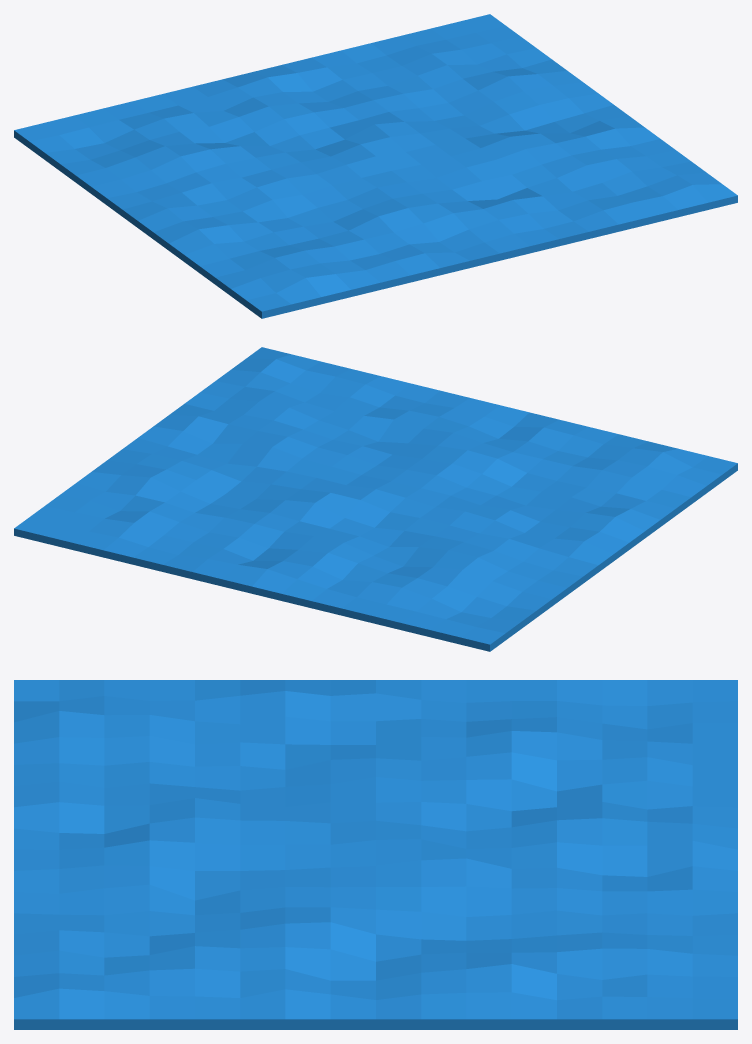
Rendered from eau.fbx.
The picture shows the model from 3 angles, top to bottom: view 1: azimuth 30°, elevation 25°; view 2: azimuth 150°, elevation 25°; view 3: azimuth 270°, elevation 25°; orthographic projection. The views are drawn at different scales.
Visible parts, largest first — view 1: Cube; view 2: Cube; view 3: Cube.
Boxes of the visible parts, left/top/right/bottom form: Cube: left=14, top=14, right=737, bottom=318; Cube: left=14, top=347, right=737, bottom=651; Cube: left=14, top=680, right=737, bottom=1029.
Bounding box in the file's own units: 1441 × 46.61 × 1300.
